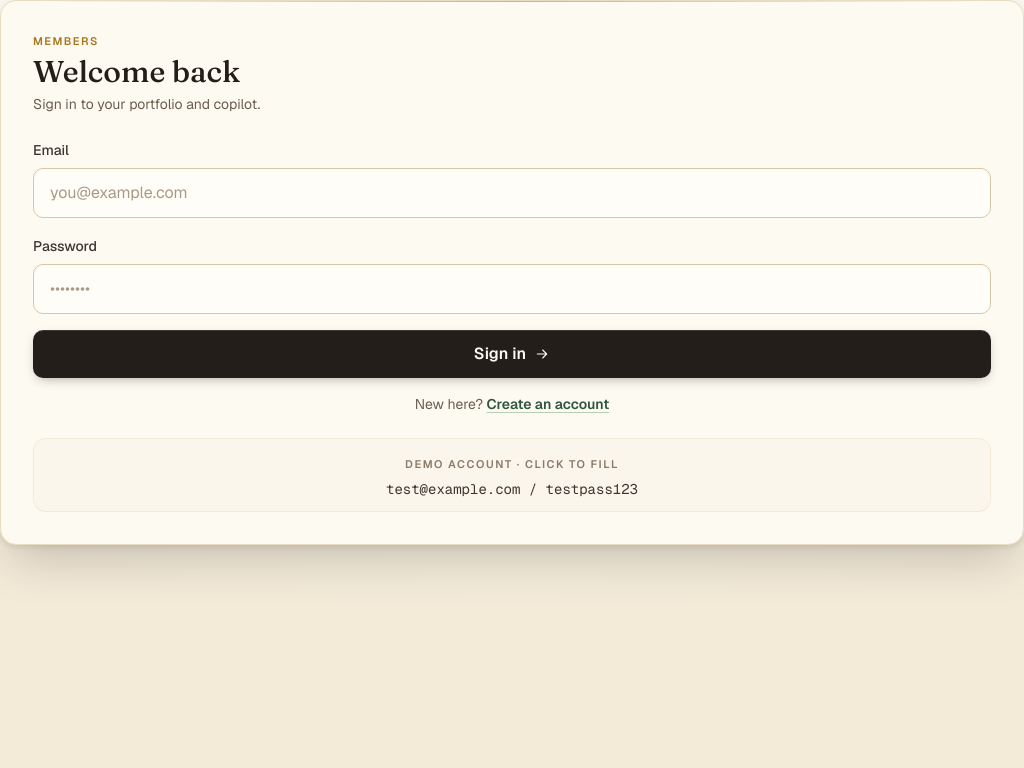
SignInCard › requires both email and password
The width and height of the screenshot is (1024, 768).
Step 1. Click the button "Sign in" → point(512, 354), box [33, 330, 991, 378]
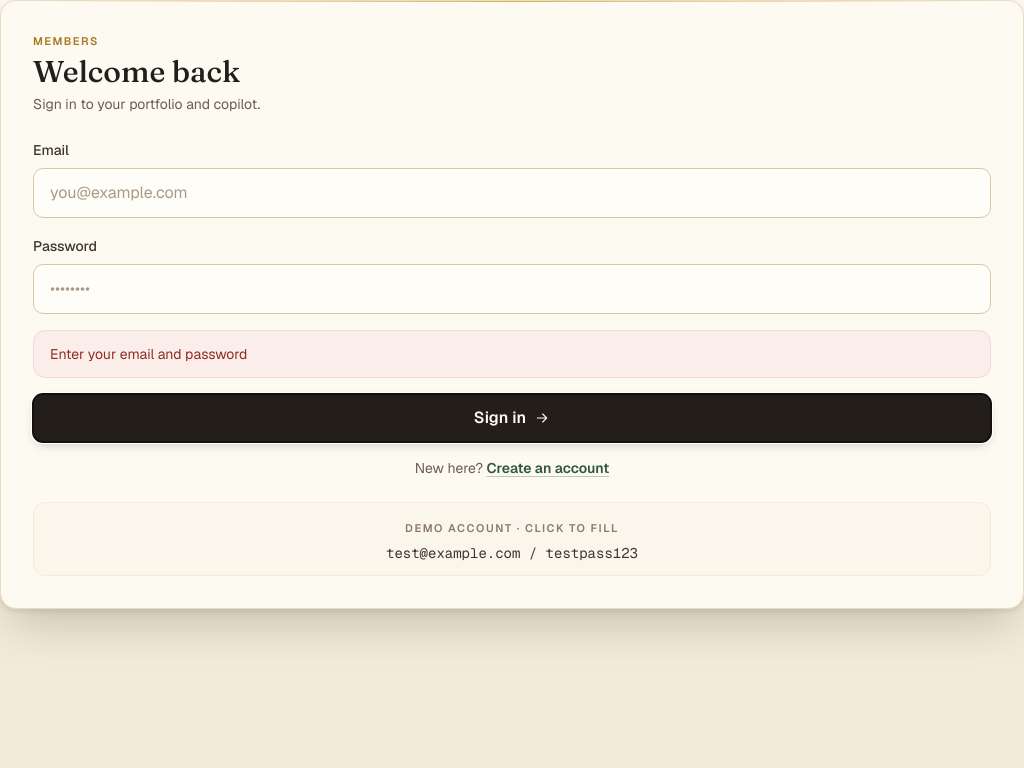
Expected: the text "Enter your email and password" is shown, [33, 330, 991, 378]
